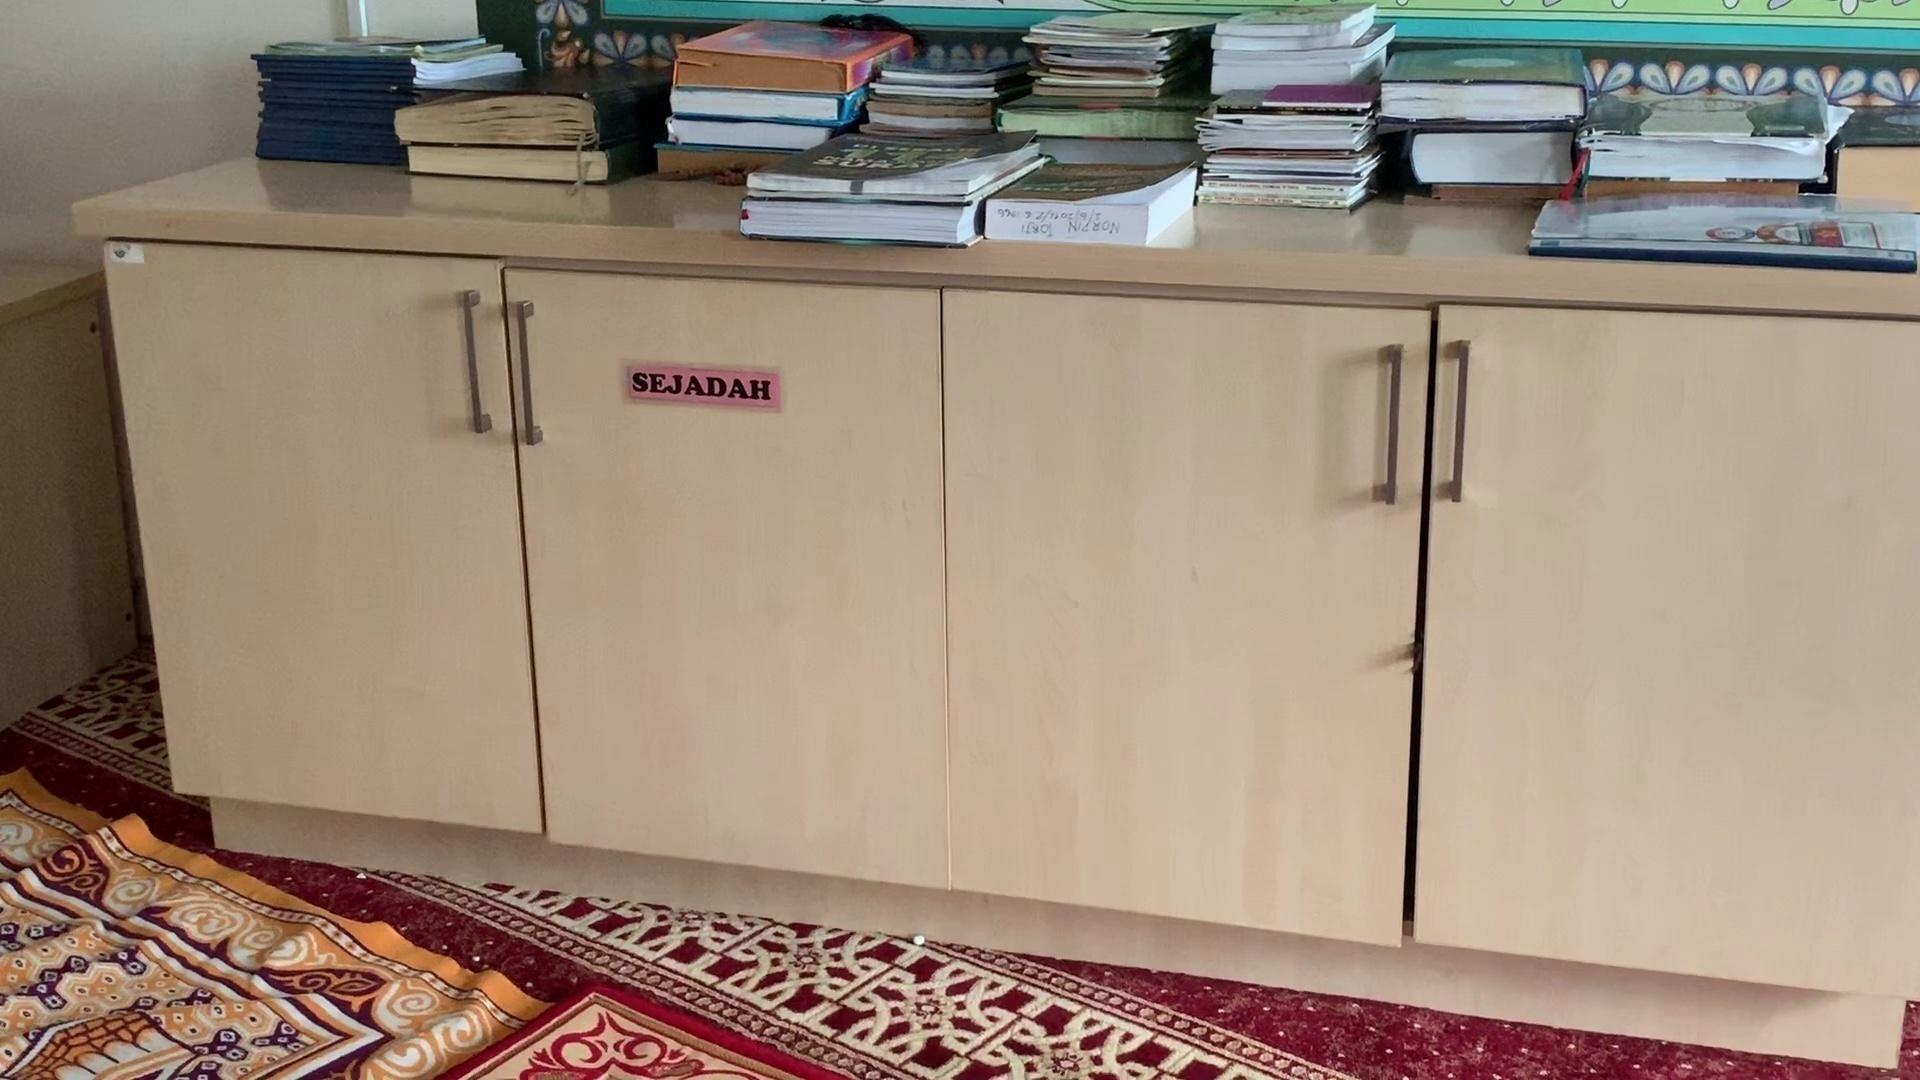cabinet_door: (1433, 326, 1920, 971), (961, 315, 1425, 915), (541, 282, 949, 853), (156, 260, 529, 806)
handle: (1369, 335, 1411, 516), (1437, 334, 1478, 510), (452, 282, 497, 442), (509, 290, 553, 454)
